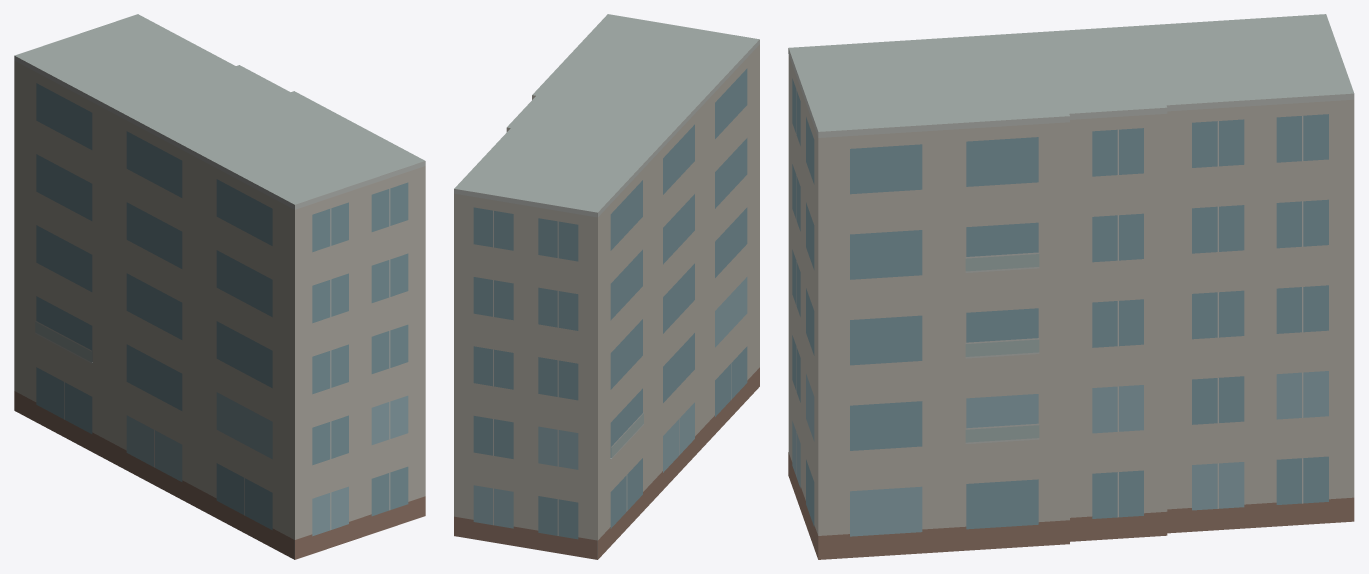
File: survey-upis-32598171.glb
3 views of the same model, side by side, from view 1: azimuth 30°, elevation 25°; view 2: azimuth 150°, elevation 25°; view 3: azimuth 270°, elevation 25° (orthographic). The views are drawn at different scales.
Visible parts, largest first — view 1: survey-upis-32598171.tmp; view 2: survey-upis-32598171.tmp; view 3: survey-upis-32598171.tmp.
Part boxes in pixels (x1=…): survey-upis-32598171.tmp: x1=14, y1=14, x2=425, y2=559; survey-upis-32598171.tmp: x1=454, y1=14, x2=759, y2=559; survey-upis-32598171.tmp: x1=788, y1=14, x2=1354, y2=559.
Size of the model in its own units: 10.17 by 17.2 by 20.62.
